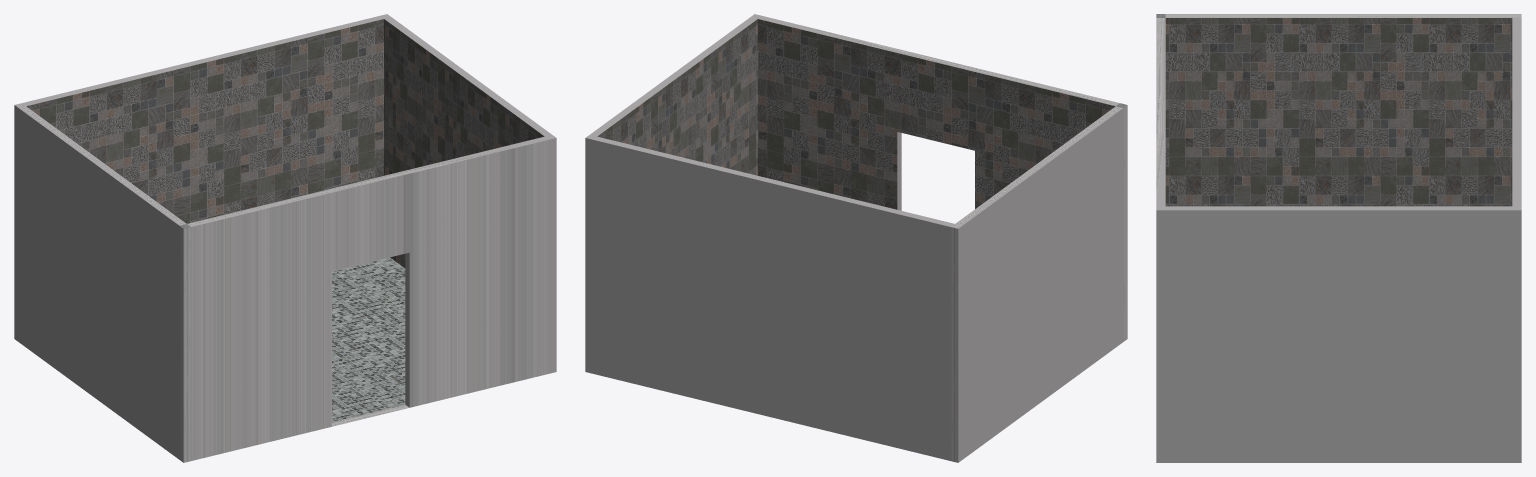
The model's file is Stens.fbx.
The picture shows the model from 3 angles, left to right: view 1: azimuth 30°, elevation 25°; view 2: azimuth 150°, elevation 25°; view 3: azimuth 270°, elevation 25°; orthographic projection. The views are drawn at different scales.
Parts seen in each view (by area): view 1: walls; view 2: walls; view 3: walls.
Part boxes in pixels (x1,y1,x2,y2): walls: [14, 14, 556, 462]; walls: [585, 14, 1127, 462]; walls: [1156, 14, 1521, 462].
Size of the model in its own units: 500 by 300 by 393.
